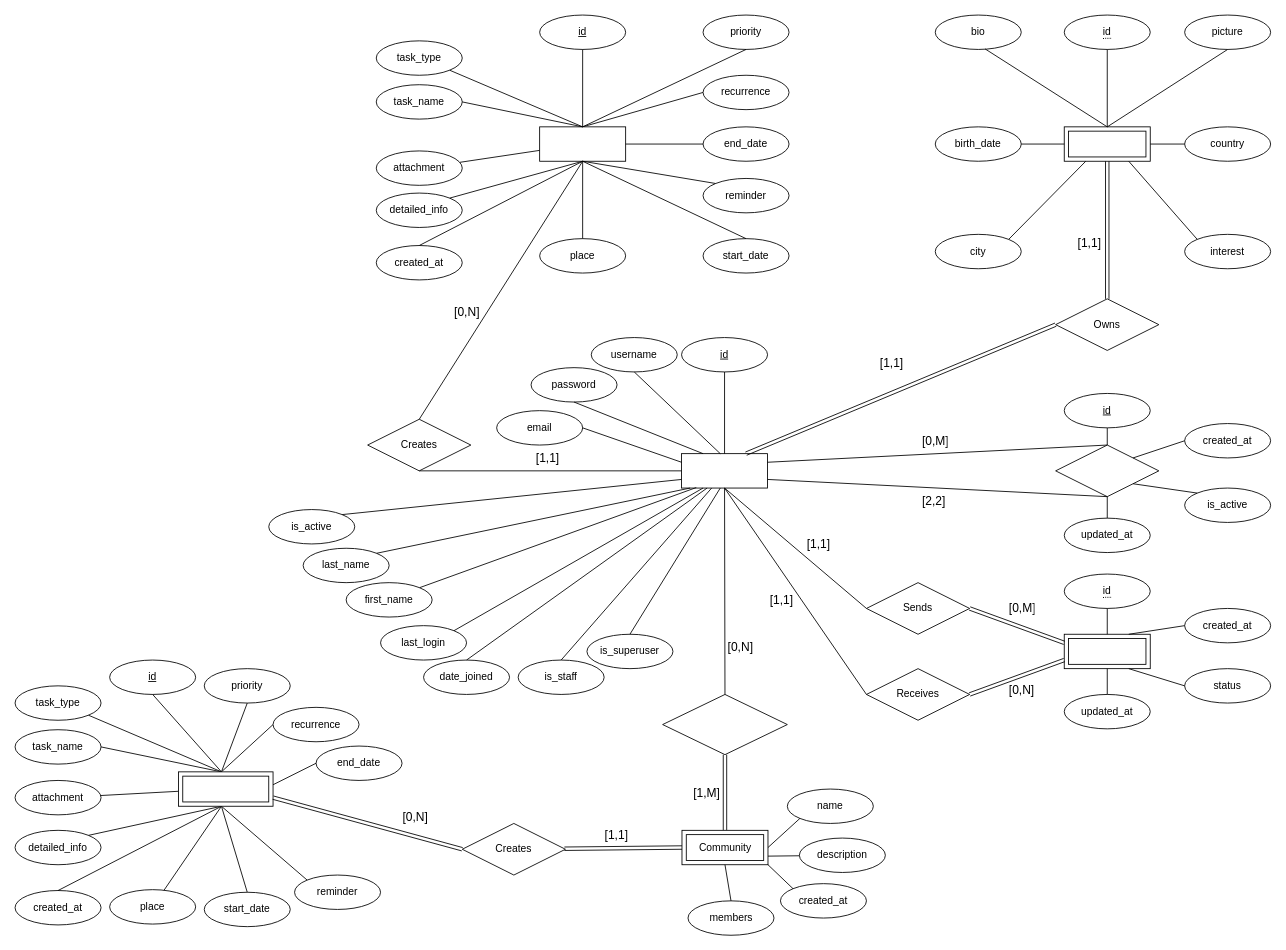
Image size: 1286x950. Some labels were removed from this diagram. The centre of each missing label's shape, as x and y in pixels:
"CommunityTask" belongs at (x=225, y=788).
"Contains" belongs at (x=724, y=724).
"FriendRequest" belongs at (x=1106, y=651).
"Friendship" belongs at (x=1107, y=470).
"Profile" belongs at (x=1106, y=143).
"Task" belongs at (x=582, y=143).
"User" belongs at (x=724, y=470).
